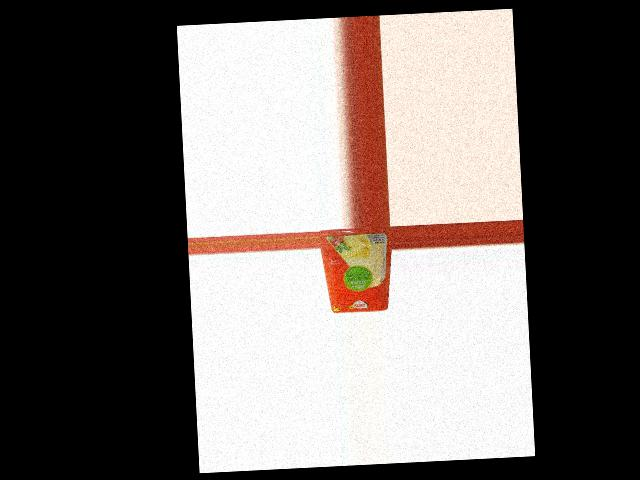cheese: (318, 226, 393, 313)
